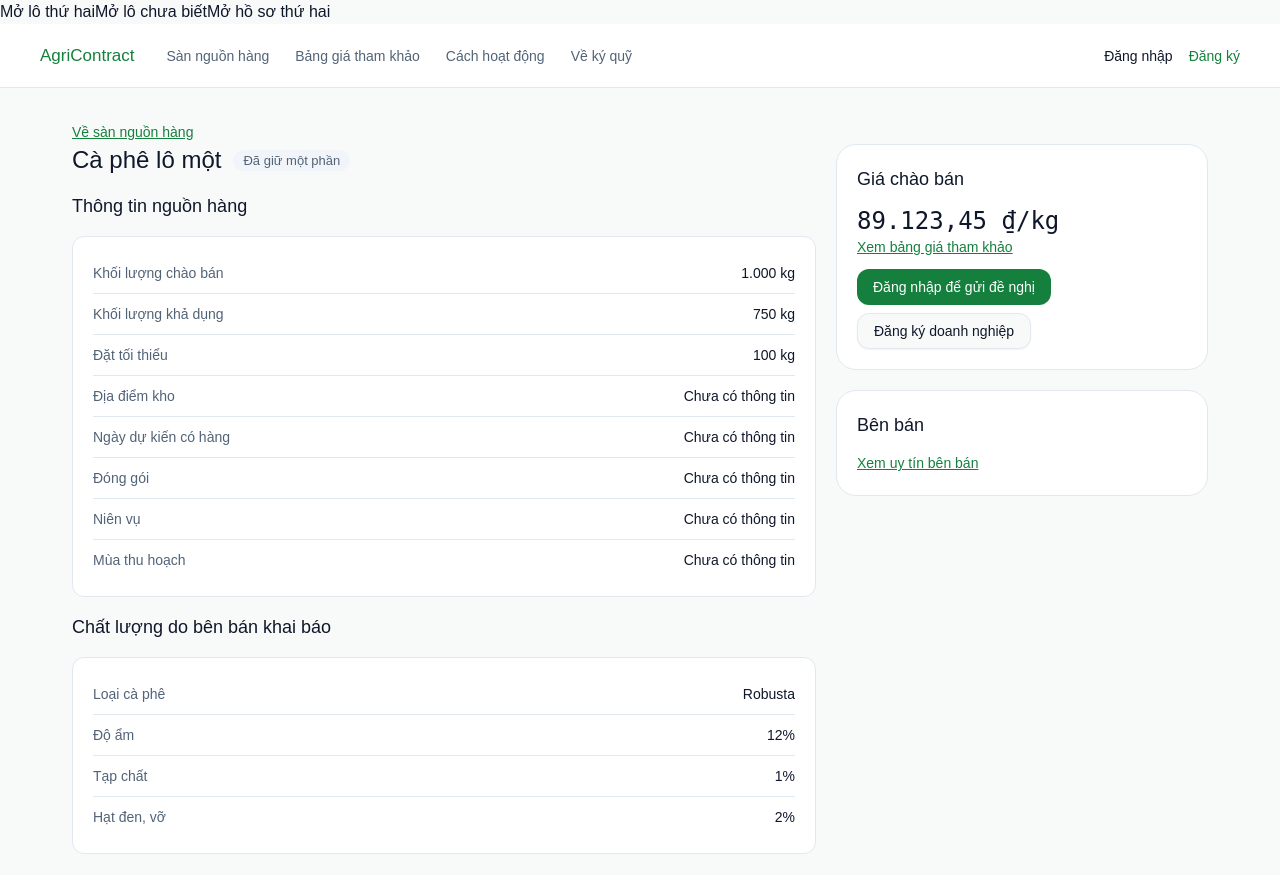
switches listing detail by ID and handles a missing listing
Check: the heading "Cà phê lô một" is shown, box [72,144,221,176]
Click the link "Mở lô thứ hai" at [48, 12], box [0,3,95,20]
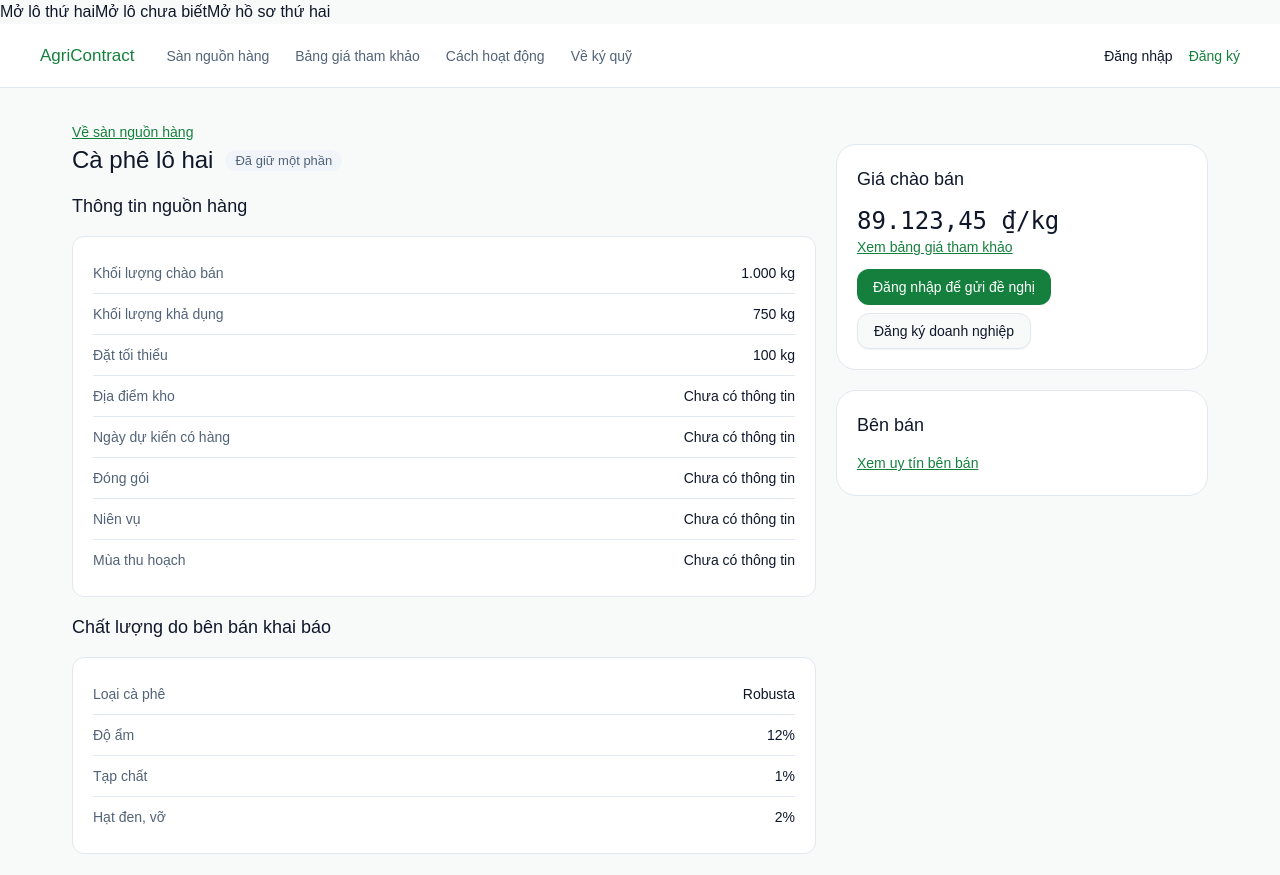
Check: the heading "Cà phê lô hai" is shown, box [72,144,213,176]
Check: the heading "Cà phê lô một" is gone
Click the link "Mở lô chưa biết" at [151, 12], box [95,3,207,20]
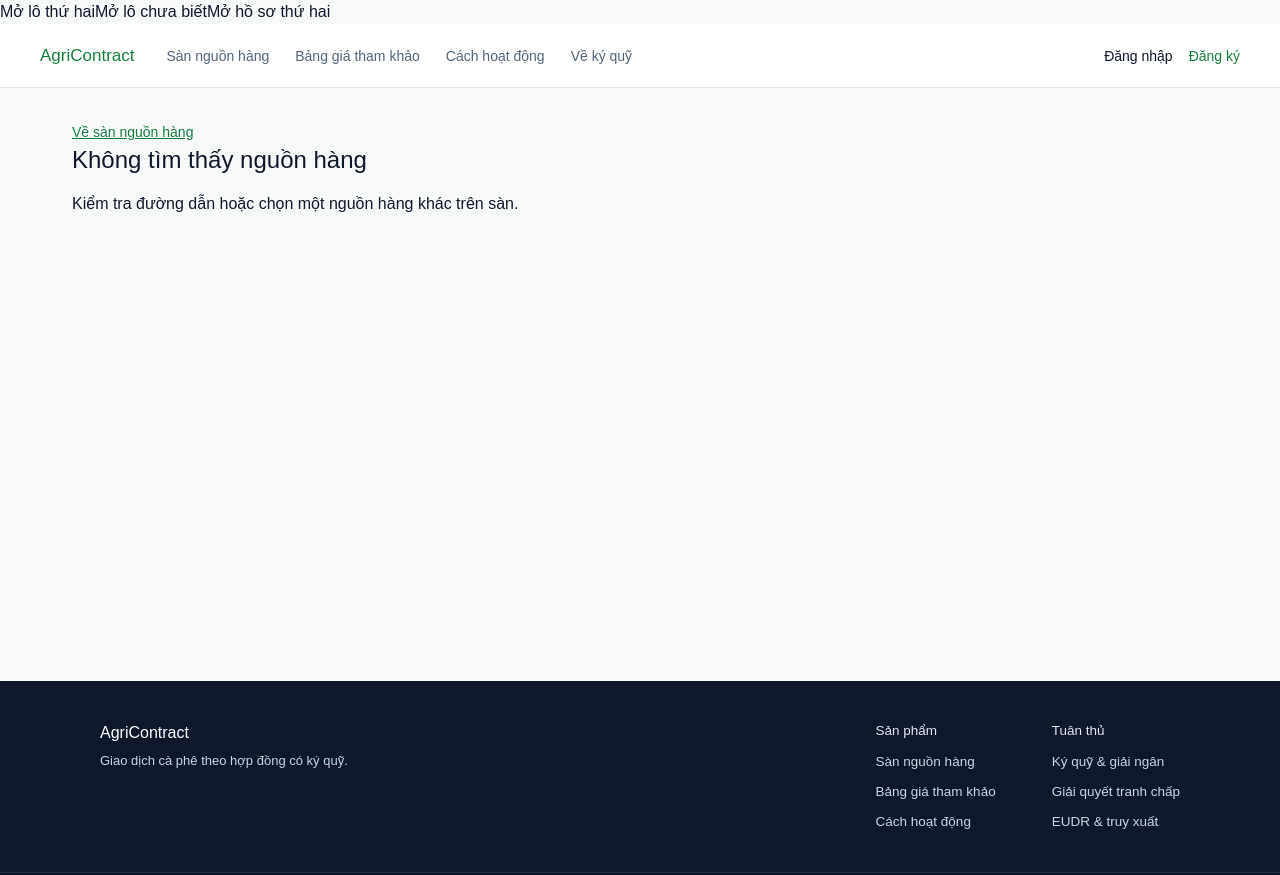
Check: the heading "Không tìm thấy nguồn hàng" is shown, box [72,146,367,173]
